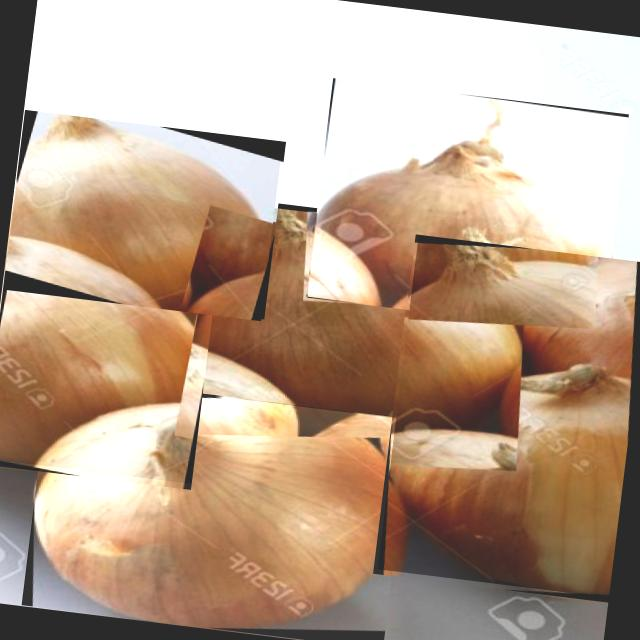healthy: (33, 398, 398, 628), (391, 257, 638, 592), (191, 210, 528, 446), (316, 98, 611, 307), (10, 114, 269, 311), (0, 253, 205, 464)
